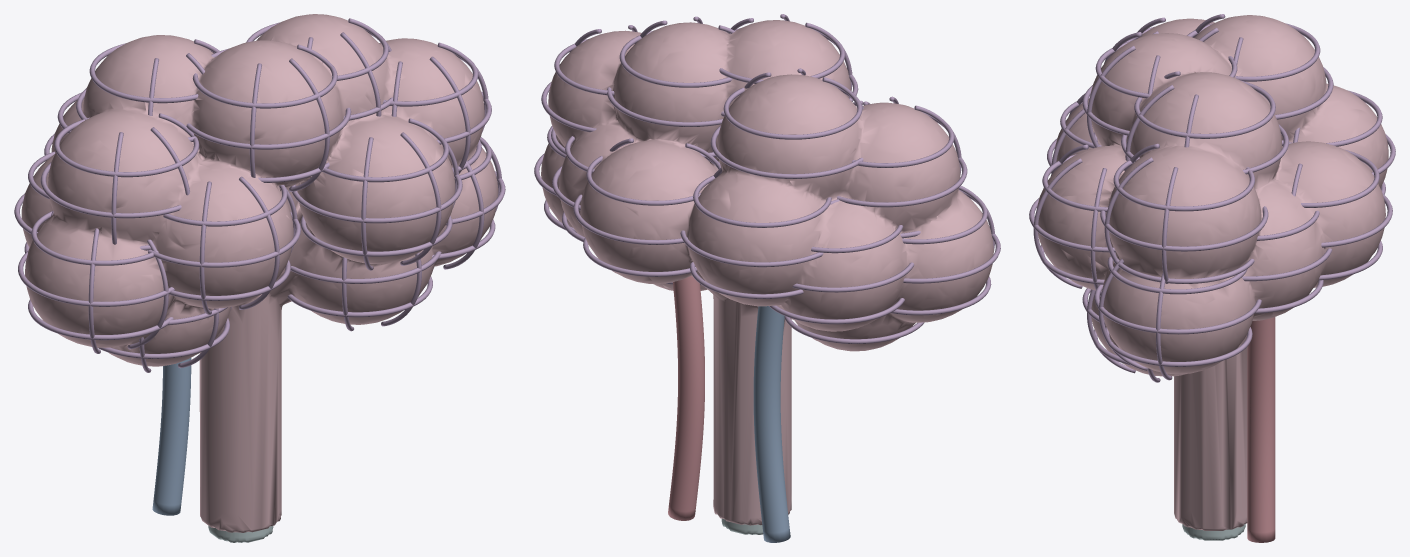
The picture shows the model from 3 angles, left to right: view 1: azimuth 30°, elevation 25°; view 2: azimuth 150°, elevation 25°; view 3: azimuth 270°, elevation 25°; orthographic projection. The views are drawn at different scales.
Parts seen in each view (by area): view 1: 肺泡群与肺泡管壁 · 连通管腔, 肺泡周围毛细血管网 · 走行示意, 肺动脉分支 · 供回流示意, 肺泡腔与肺泡管腔 · 参考体积; view 2: 肺泡群与肺泡管壁 · 连通管腔, 肺泡周围毛细血管网 · 走行示意, 肺静脉分支 · 供回流示意, 肺动脉分支 · 供回流示意; view 3: 肺泡群与肺泡管壁 · 连通管腔, 肺泡周围毛细血管网 · 走行示意, 肺静脉分支 · 供回流示意, 肺泡腔与肺泡管腔 · 参考体积.
Boxes of the visible parts, x1,y1,x2,y2 form: 肺泡群与肺泡管壁 · 连通管腔: (21,14,498,532); 肺泡周围毛细血管网 · 走行示意: (14,18,505,372); 肺动脉分支 · 供回流示意: (152,358,191,515); 肺泡腔与肺泡管腔 · 参考体积: (208,525,273,542); 肺泡群与肺泡管壁 · 连通管腔: (541,20,993,525); 肺泡周围毛细血管网 · 走行示意: (534,14,1000,343); 肺静脉分支 · 供回流示意: (668,276,704,520); 肺动脉分支 · 供回流示意: (753,306,790,542); 肺泡群与肺泡管壁 · 连通管腔: (1037,15,1388,530); 肺泡周围毛细血管网 · 走行示意: (1029,14,1395,382); 肺静脉分支 · 供回流示意: (1247,317,1275,542); 肺泡腔与肺泡管腔 · 参考体积: (1182,524,1245,540).
Size of the model in its own units: 1.77 by 1.81 by 1.24.
